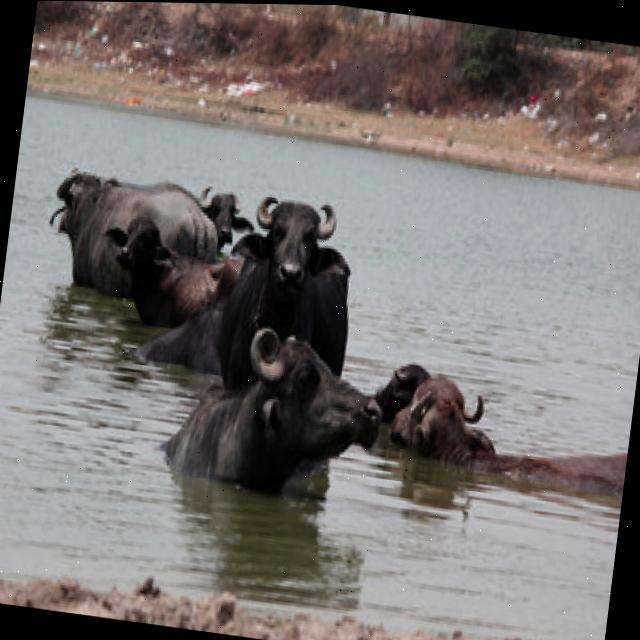Buffalo: (166, 311, 395, 506), (220, 193, 362, 334), (90, 208, 220, 317)
